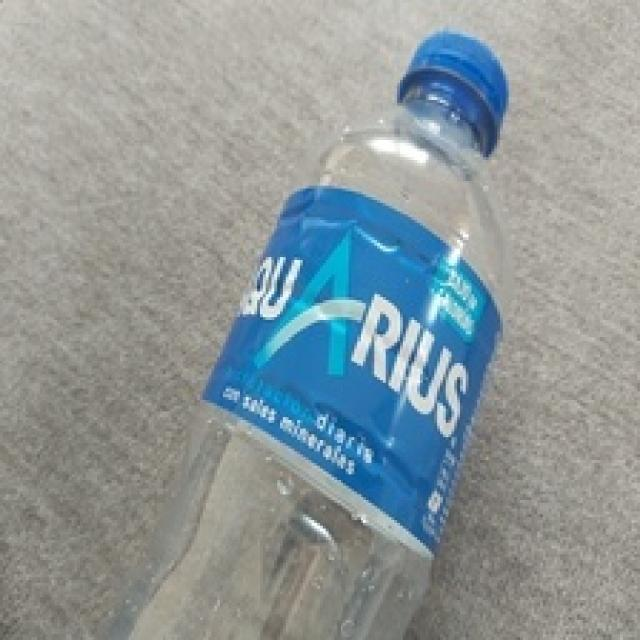Plastic: (86, 31, 512, 640)
